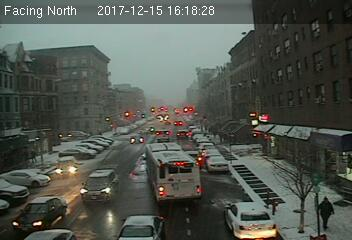bus: (142, 143, 201, 204)
car: (10, 196, 70, 230), (225, 202, 278, 239), (79, 170, 121, 205), (116, 214, 164, 240), (55, 157, 78, 176), (205, 156, 229, 171), (154, 129, 169, 141), (128, 135, 144, 144), (176, 130, 189, 138)
pedestrian: (318, 196, 336, 233)
